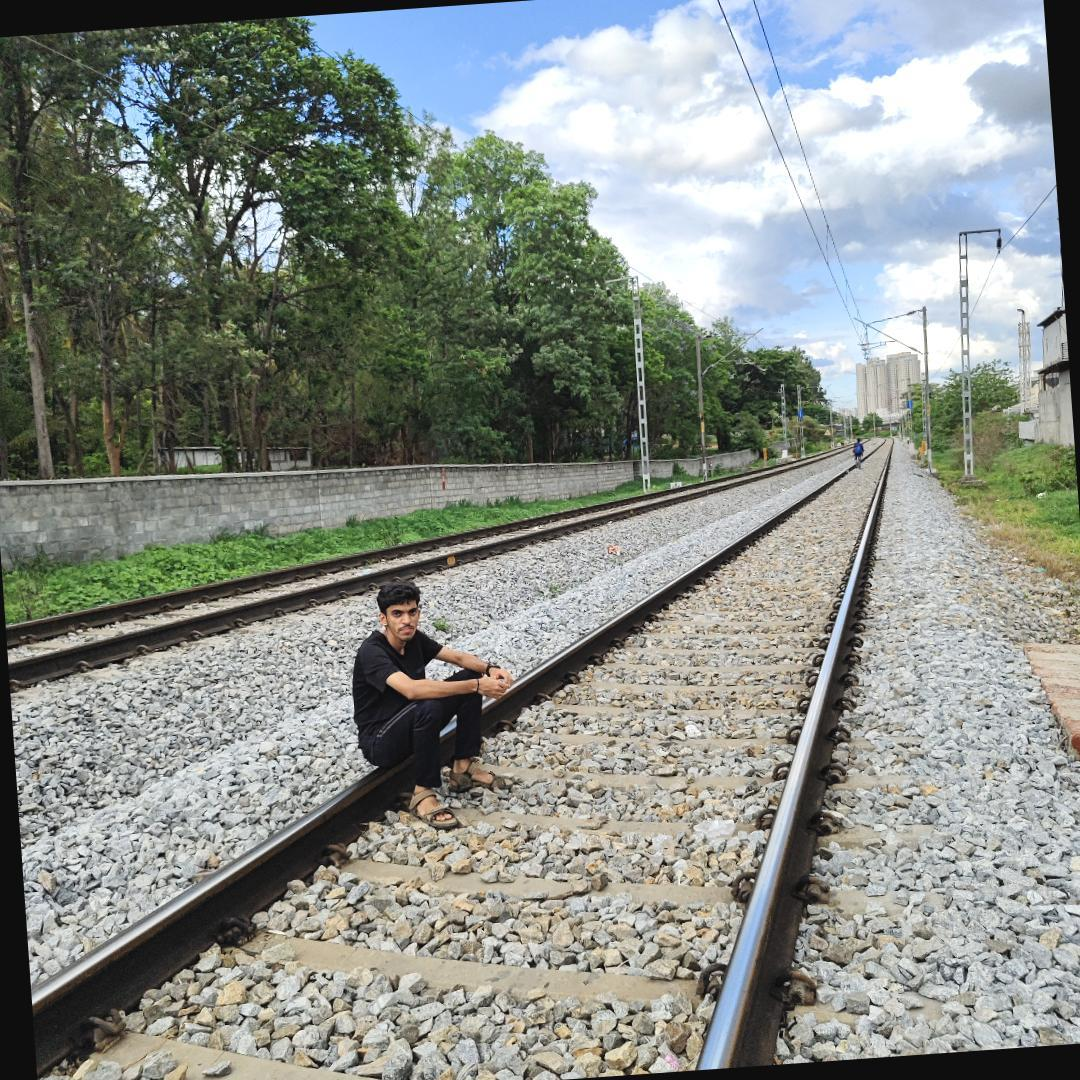sitting: (326, 564, 536, 840)
